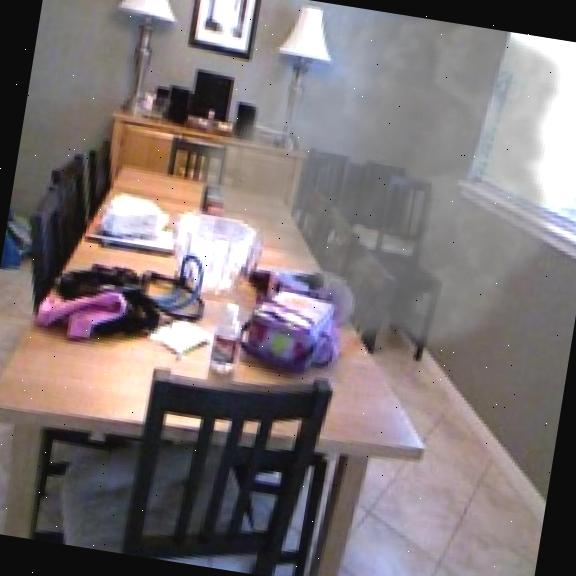smoke: (160, 0, 576, 379)
